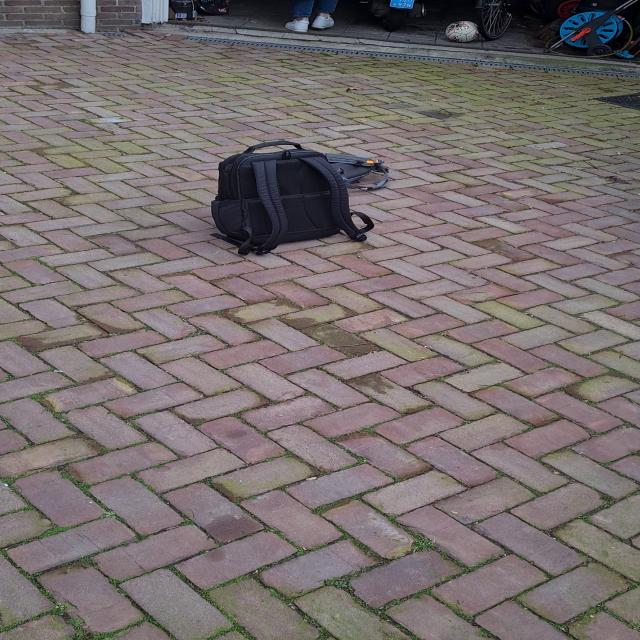backpack: (199, 137, 380, 255), (316, 152, 400, 190)
